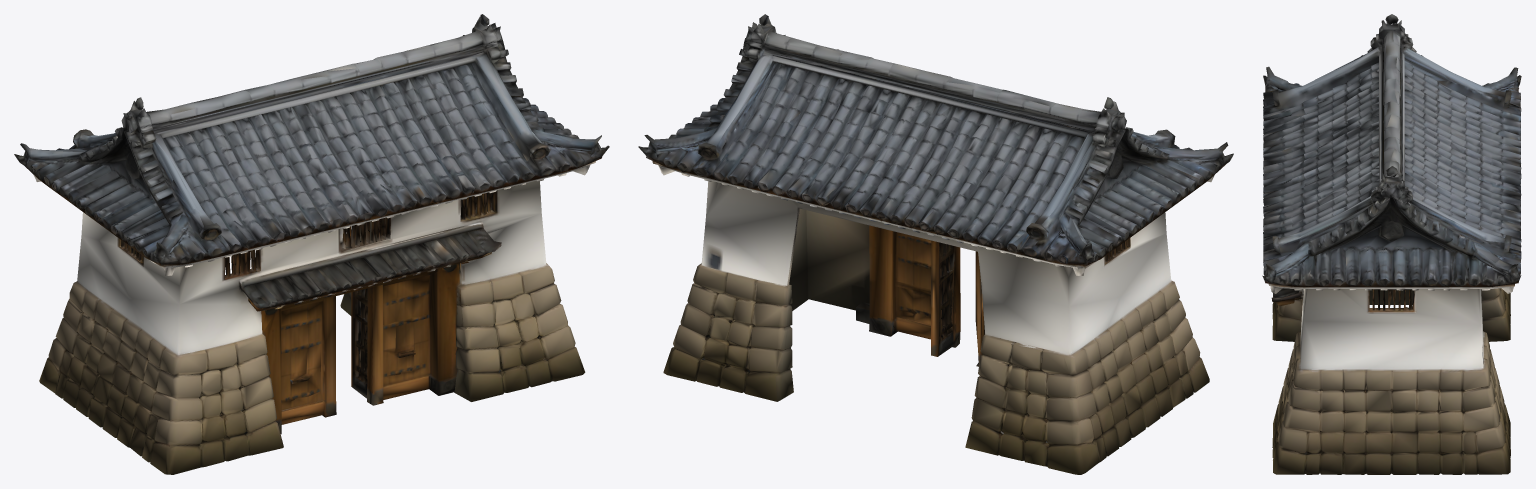
File: main_gate_yaguramon_wide.glb
The picture shows the model from 3 angles, left to right: view 1: azimuth 30°, elevation 25°; view 2: azimuth 150°, elevation 25°; view 3: azimuth 270°, elevation 25°; orthographic projection. The views are drawn at different scales.
Visible parts, largest first — view 1: node_0; view 2: node_0; view 3: node_0.
Part boxes in pixels (x1,y1,x2,y2): node_0: [14, 14, 609, 474]; node_0: [638, 14, 1233, 474]; node_0: [1262, 14, 1521, 474].
Bounding box in the file's own units: 15.33 × 10.43 × 8.32.
Materials: 1 (1 with a texture image).
